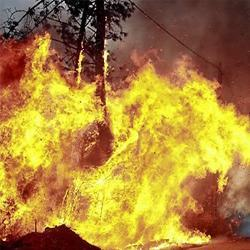fire: (109, 91, 250, 172), (83, 175, 181, 242), (11, 82, 98, 140), (1, 143, 54, 219)
